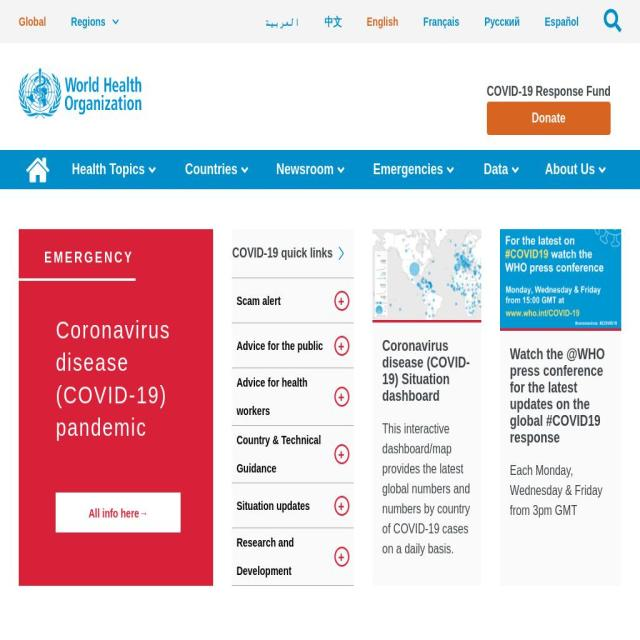button: (56, 314, 176, 444), (499, 229, 622, 329), (509, 346, 612, 446), (372, 229, 481, 320), (232, 368, 354, 425), (232, 528, 354, 585), (232, 426, 354, 482), (19, 68, 141, 118), (382, 337, 471, 404), (232, 233, 354, 274), (486, 102, 611, 135), (59, 150, 164, 189), (360, 150, 462, 189), (488, 104, 610, 134), (232, 286, 354, 315), (232, 331, 354, 360), (232, 491, 354, 520), (264, 150, 353, 189), (64, 498, 172, 530), (172, 150, 257, 189), (532, 150, 614, 189), (58, 0, 132, 43), (472, 150, 528, 189), (416, 0, 465, 43), (477, 0, 526, 43), (257, 0, 305, 43), (538, 0, 585, 43), (360, 0, 405, 43), (19, 0, 59, 43), (19, 150, 56, 189), (317, 0, 348, 43)
heading: (509, 346, 612, 446), (382, 337, 471, 404), (19, 637, 320, 640)
image: (499, 229, 622, 329), (372, 229, 481, 320), (19, 68, 141, 118)
link: (320, 637, 621, 640)
text: (382, 418, 471, 572), (509, 461, 612, 535), (236, 433, 322, 475), (19, 250, 136, 278), (236, 376, 308, 417), (486, 82, 611, 102), (237, 536, 294, 577), (236, 338, 323, 352), (236, 498, 310, 512), (89, 507, 140, 521), (236, 294, 282, 308), (19, 161, 56, 177), (139, 507, 148, 521)
